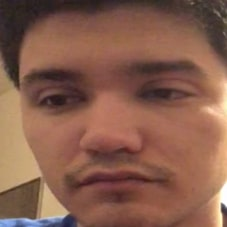drowsy: (19, 59, 211, 205)
